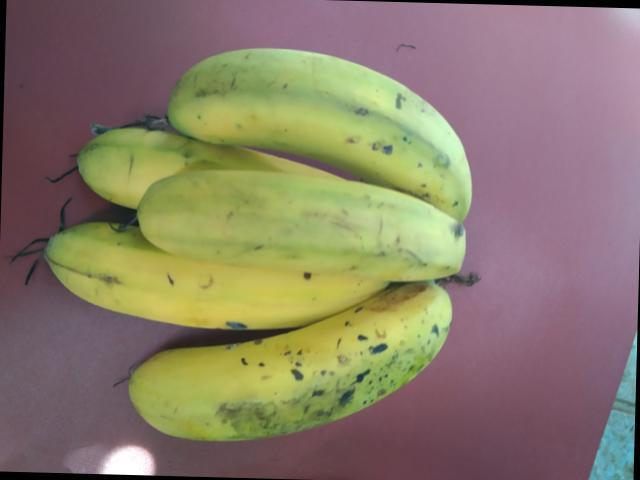ripe: (156, 38, 505, 209), (113, 288, 479, 451), (130, 158, 472, 303), (31, 219, 366, 347)
